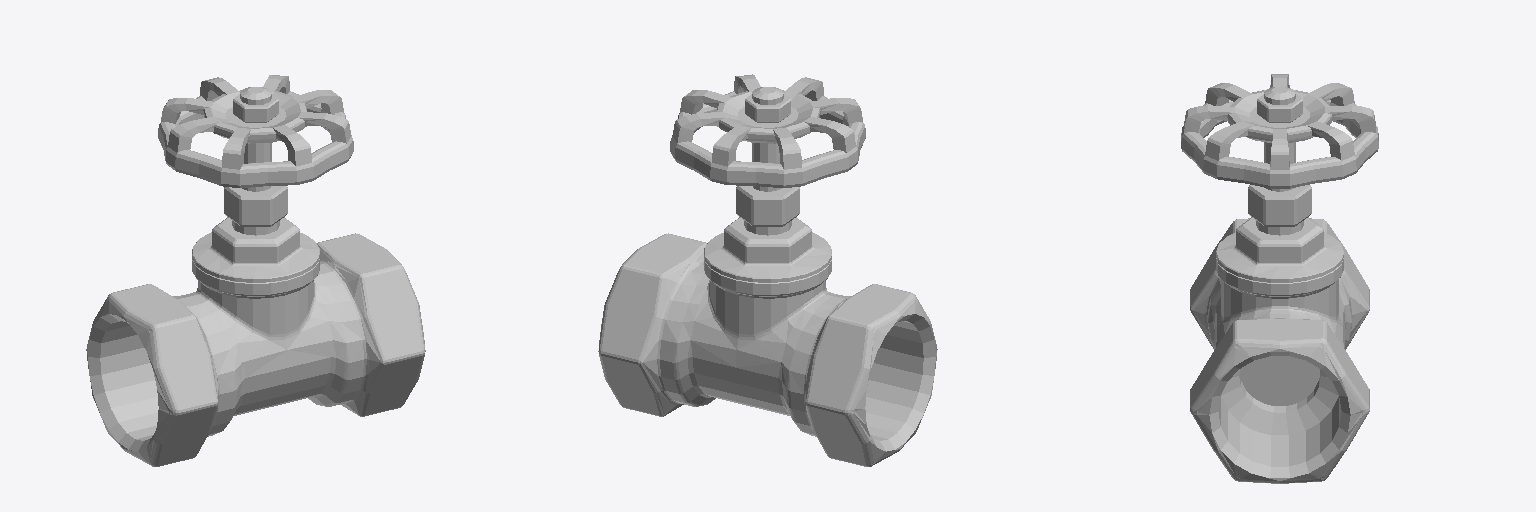
File: Bronze valve.obj
3 views of the same model, side by side, from view 1: azimuth 30°, elevation 25°; view 2: azimuth 150°, elevation 25°; view 3: azimuth 270°, elevation 25° (orthographic).
Visible parts, largest first — view 1: Bronze_valve_Circle.013; view 2: Bronze_valve_Circle.013; view 3: Bronze_valve_Circle.013.
Boxes of the visible parts, box(x1,y1,x2,y2) form: Bronze_valve_Circle.013: box(86, 75, 425, 466); Bronze_valve_Circle.013: box(598, 74, 937, 466); Bronze_valve_Circle.013: box(1181, 74, 1378, 483).
Bounding box in the file's own units: 0.0373 × 0.0445 × 0.0241.